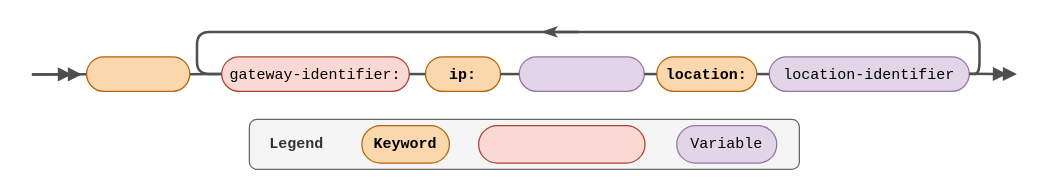
The diagram is 1049 pixels wide and 191 high, and some of its shapes have lost their labels. The shapes that lost their labels are listed below. From the top down, each one's centre as x and y in pixels, then its label:
(137,73): gateways:
(581,73): ip-address
(561,143): Class Identifier
